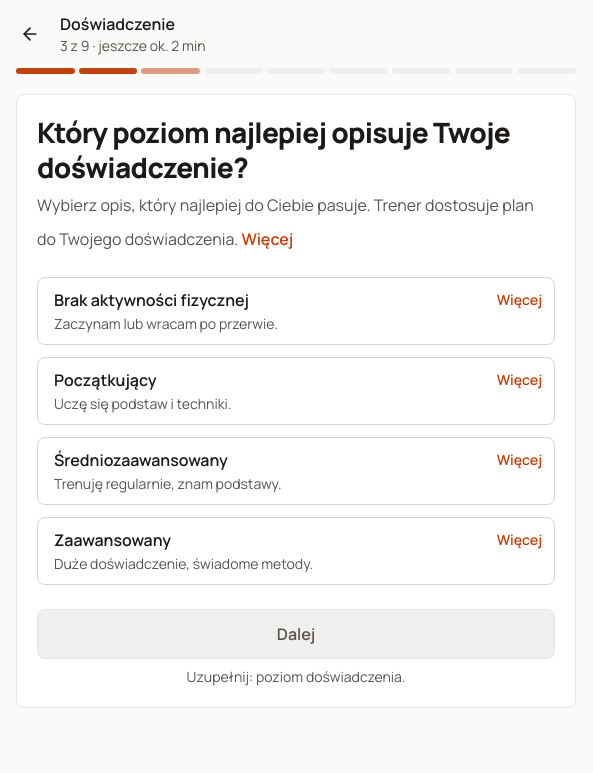
steps › level screen lead matches the 2-year rule (no 'don't go by years' sentence)
The width and height of the screenshot is (593, 773).
Expected: the text "Wybierz opis, który najlepiej do Ciebie pasuje. Trener dostosuje plan do Twojego doświadczenia." is shown, [37,194,534,250]
Expected: the text "Poziom zaawansowania decyduje o tym" is not shown
Click the 1st button "Więcej" at (267, 239), box [242,217,293,261]
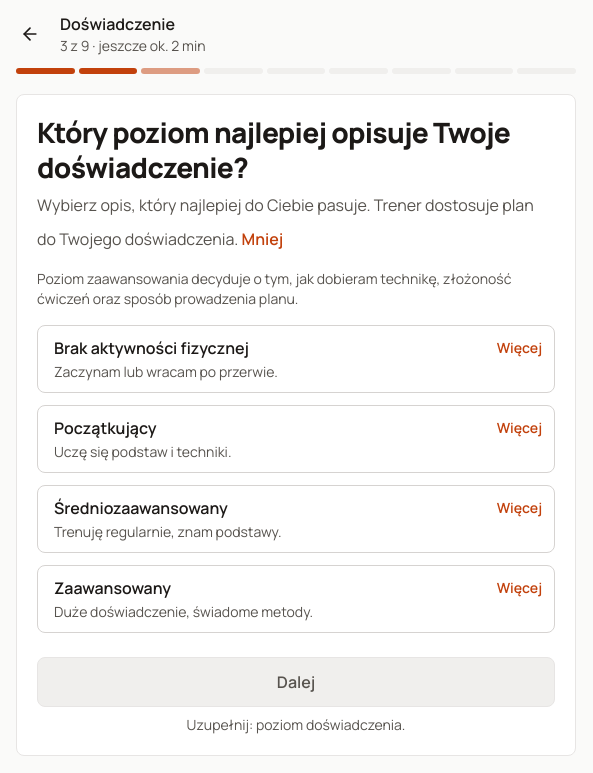
Now the text "Poziom zaawansowania decyduje o tym, jak dobieram technikę" is shown, box [37,269,511,308]
